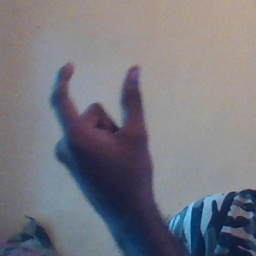U: (46, 57, 159, 201)
